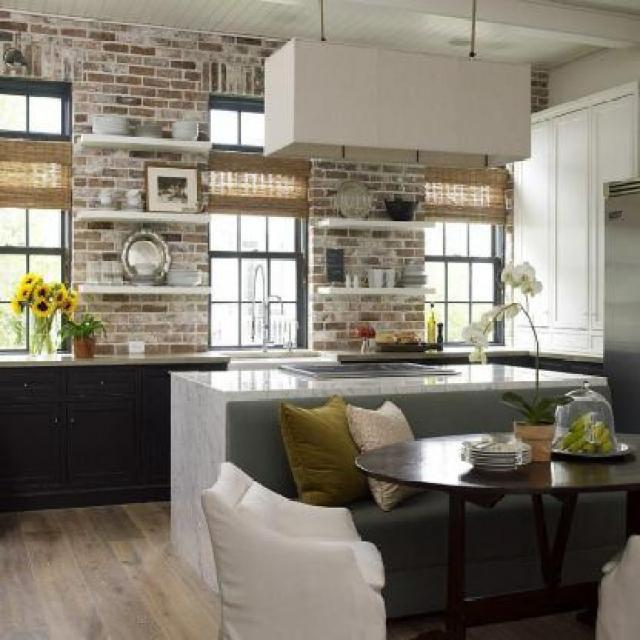Floor: (1, 500, 220, 639)
